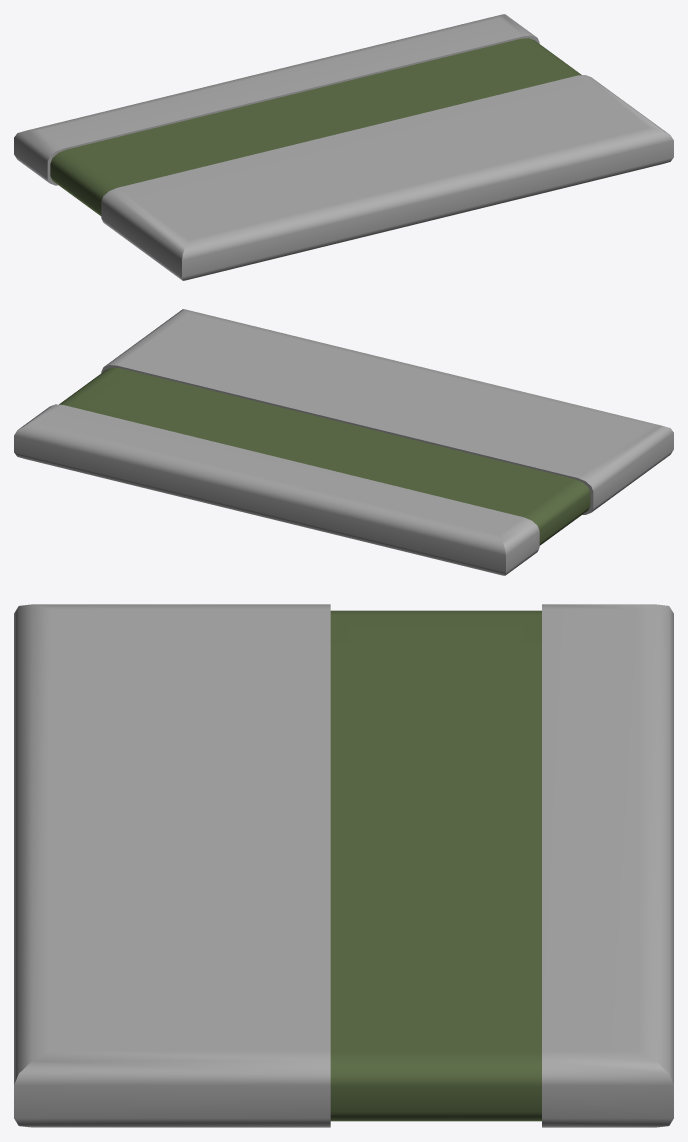
Rendered from SM_KeyCard.fbx.
3 views of the same model, one above another, from view 1: azimuth 30°, elevation 25°; view 2: azimuth 150°, elevation 25°; view 3: azimuth 270°, elevation 25° (orthographic). The views are drawn at different scales.
Visible parts, largest first — view 1: KeyCard; view 2: KeyCard; view 3: KeyCard.
Boxes of the visible parts, x1=… form: KeyCard: x1=14, y1=14, x2=673, y2=280; KeyCard: x1=14, y1=309, x2=673, y2=575; KeyCard: x1=14, y1=604, x2=673, y2=1127.
Size of the model in its own units: 16.92 by 1.2 by 10.
